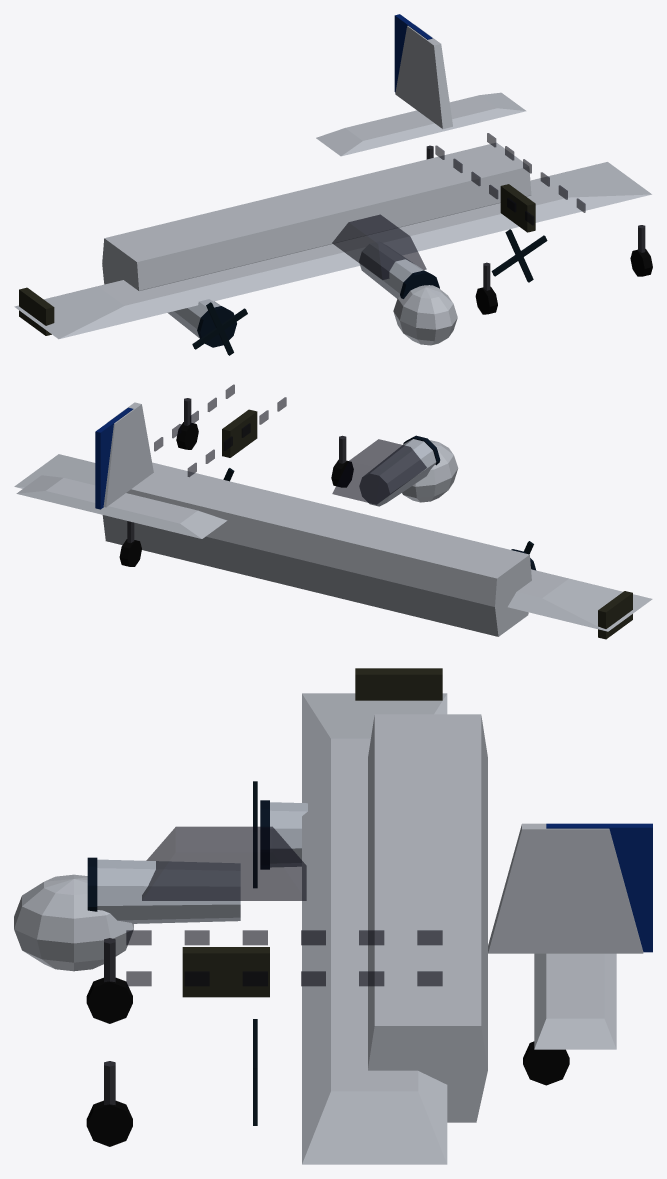
The model's file is aeroplane.glb.
The picture shows the model from 3 angles, top to bottom: view 1: azimuth 30°, elevation 25°; view 2: azimuth 150°, elevation 25°; view 3: azimuth 270°, elevation 25°; orthographic projection. The views are drawn at different scales.
Parts seen in each view (by area): view 1: root, propR, propL; view 2: root, propR, propL; view 3: root, propR, propL.
Part boxes in pixels (box(x1,y1,x2,y2)): root: box(14, 142, 651, 347); propR: box(316, 14, 652, 314); propL: box(192, 184, 535, 355); root: box(14, 439, 652, 639); propR: box(16, 384, 353, 566); propL: box(222, 409, 533, 554); root: box(14, 668, 487, 1164); propR: box(86, 823, 652, 1146); propL: box(87, 781, 269, 997).
Bounding box in the file's own units: 11.5 × 3.34 × 6.59.
